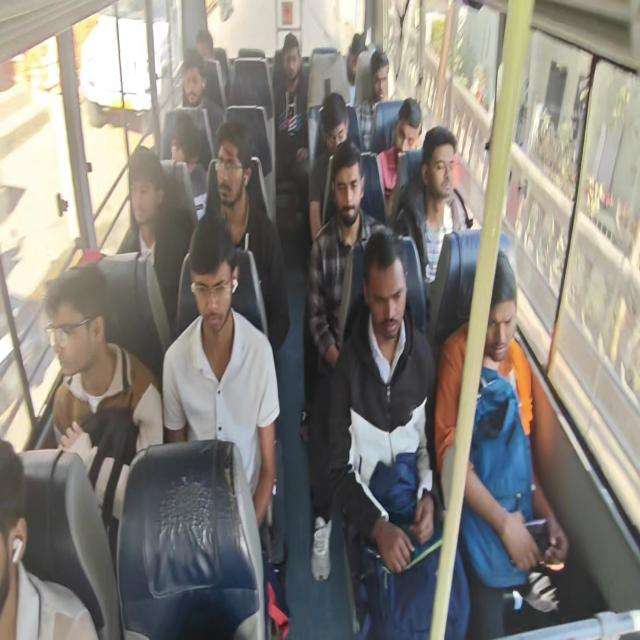person: (41, 261, 108, 378), (183, 211, 237, 337), (362, 231, 410, 343), (470, 262, 527, 352), (1, 441, 28, 616), (210, 124, 257, 212), (121, 146, 170, 229), (416, 118, 464, 198), (328, 140, 370, 231), (379, 86, 421, 162), (163, 103, 203, 176), (172, 44, 208, 114), (363, 43, 395, 104), (318, 90, 352, 146), (276, 27, 306, 80), (344, 18, 368, 83), (194, 28, 226, 64)
